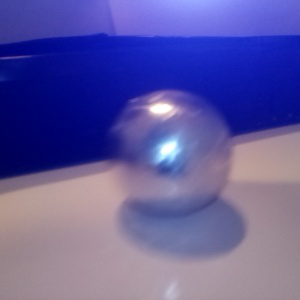alive_ball: (107, 88, 230, 215)
